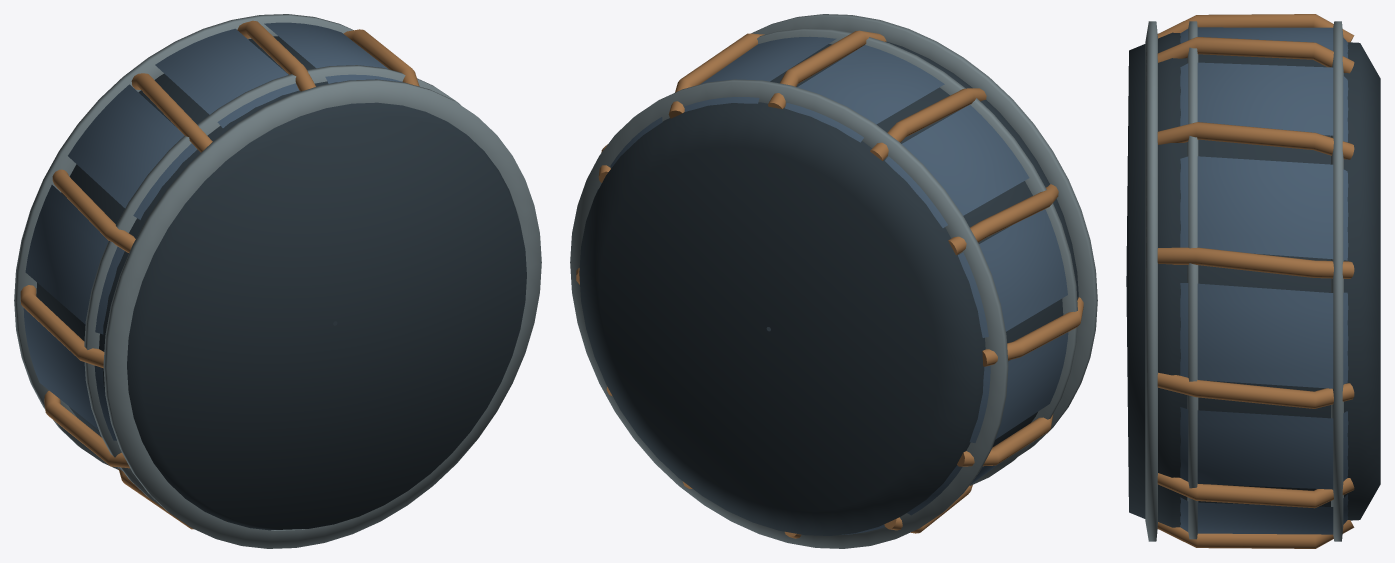
The model's file is boss_reactor_body.glb.
3 views of the same model, side by side, from view 1: azimuth 30°, elevation 25°; view 2: azimuth 150°, elevation 25°; view 3: azimuth 270°, elevation 25° (orthographic). The views are drawn at different scales.
Visible parts, largest first — view 1: boss_reactor_body; view 2: boss_reactor_body; view 3: boss_reactor_body.
Part boxes in pixels (x1,y1,x2,y2): boss_reactor_body: [14, 14, 541, 548]; boss_reactor_body: [570, 14, 1097, 548]; boss_reactor_body: [1126, 14, 1380, 548].
Size of the model in its own units: 2.11 by 2.11 by 1.
